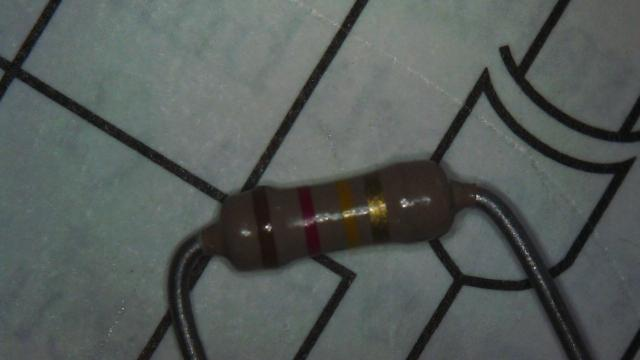brown: (252, 187, 278, 270)
gold: (366, 172, 389, 243)
red: (297, 187, 320, 255)
resistor: (167, 137, 471, 307)
yellow: (336, 179, 358, 244)
